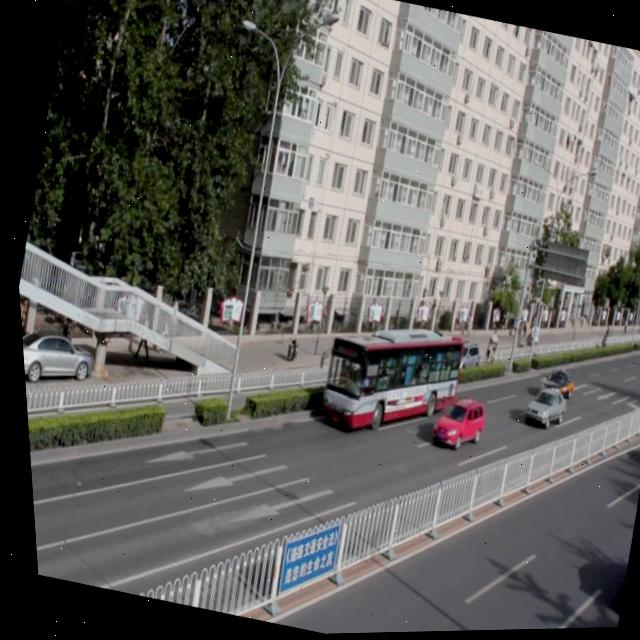car: (421, 392, 482, 453), (514, 382, 564, 431), (530, 365, 572, 404), (443, 336, 479, 375)
van: (307, 309, 464, 452)
